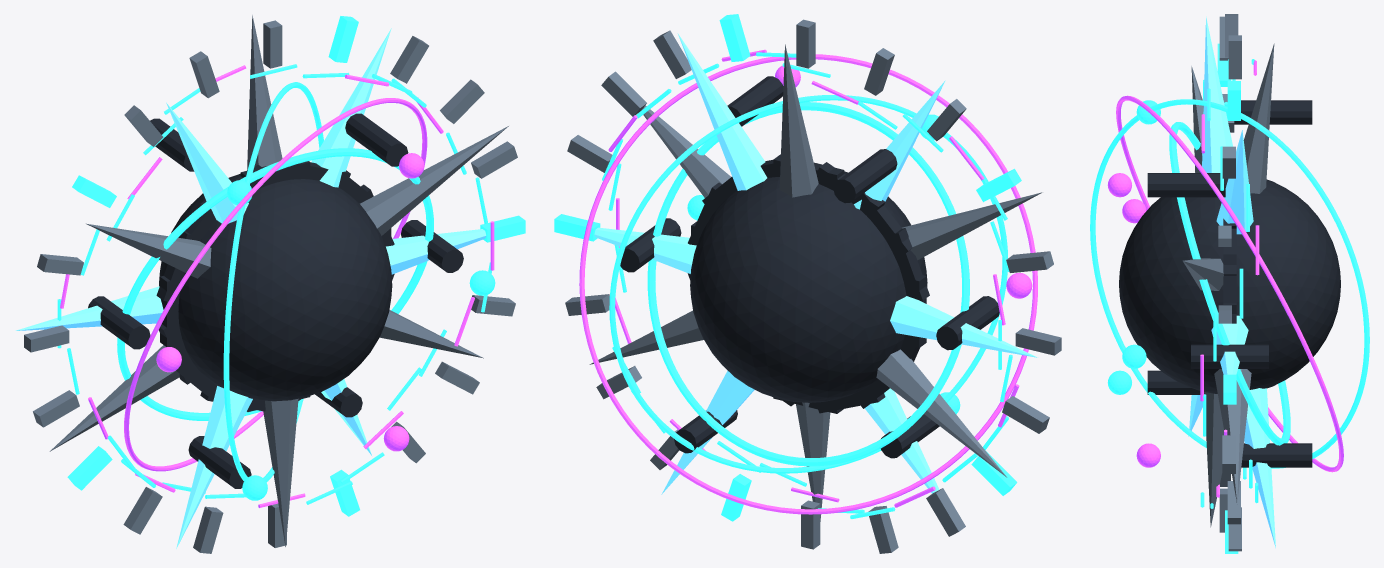
The model's file is voxx-nexus-core-v3.glb.
The picture shows the model from 3 angles, left to right: view 1: azimuth 30°, elevation 25°; view 2: azimuth 150°, elevation 25°; view 3: azimuth 270°, elevation 25°; orthographic projection. The views are drawn at different scales.
Parts seen in each view (by area): view 1: world; view 2: world; view 3: world.
Boxes of the visible parts, box(x1,y1,x2,y2) form: world: box(15, 15, 525, 553); world: box(554, 14, 1061, 553); world: box(1090, 14, 1369, 553).
Bounding box in the file's own units: 4.88 × 4.88 × 2.52.
